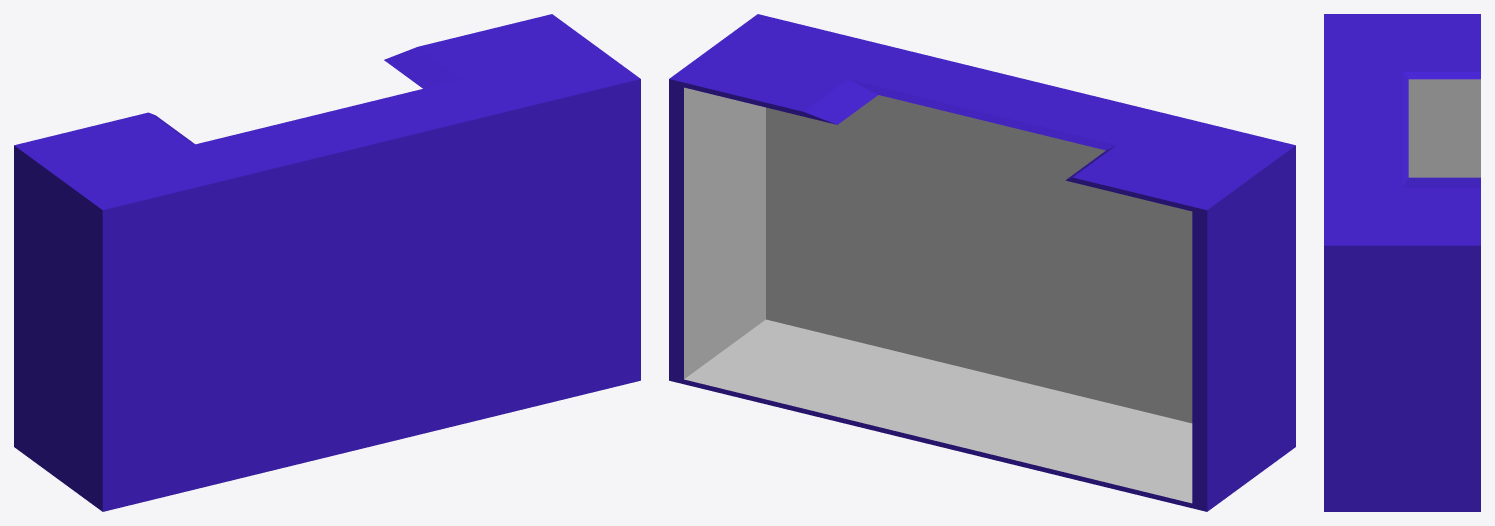
File: ArenaNew.dae
3 renders of one model, left to right at view 1: azimuth 30°, elevation 25°; view 2: azimuth 150°, elevation 25°; view 3: azimuth 270°, elevation 25°, orthographic. The views are drawn at different scales.
Parts seen in each view (by area): view 1: ArenaWallsandFloor_002; view 2: ArenaWallsandFloor_002; view 3: ArenaWallsandFloor_002.
Part boxes in pixels (x1=…): ArenaWallsandFloor_002: x1=14, y1=14, x2=640, y2=511; ArenaWallsandFloor_002: x1=669, y1=14, x2=1295, y2=511; ArenaWallsandFloor_002: x1=1324, y1=14, x2=1480, y2=511.
Size of the model in its own units: 28 by 8 by 15.
